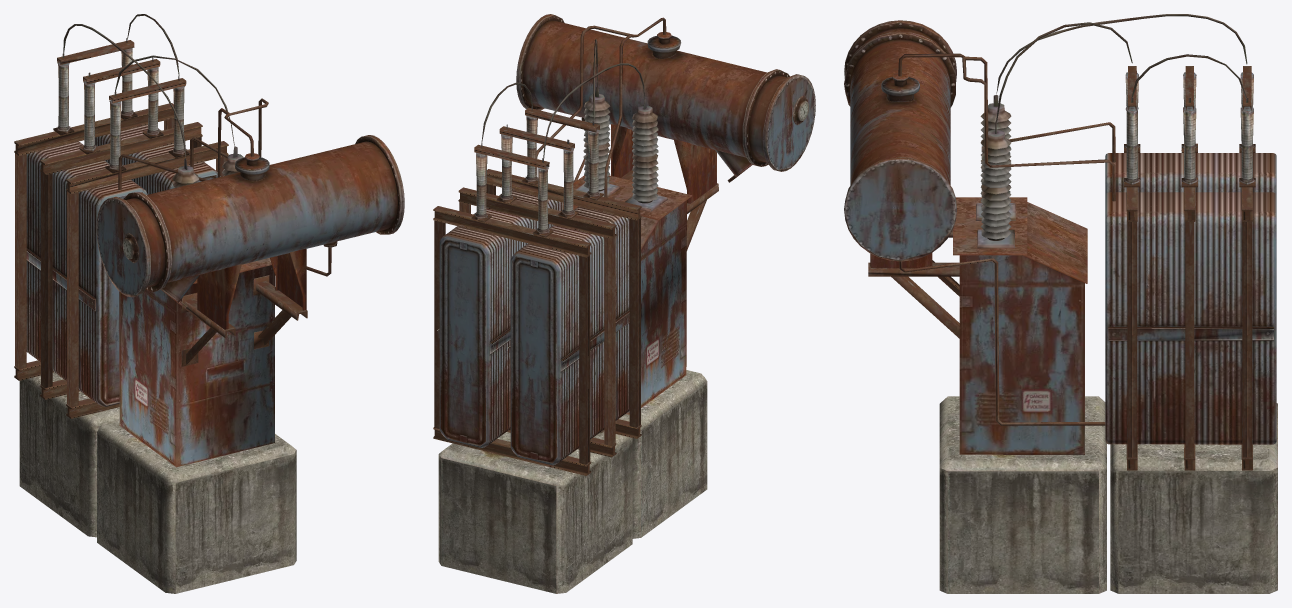
File: substation_b.glb
3 renders of one model, left to right at view 1: azimuth 30°, elevation 25°; view 2: azimuth 150°, elevation 25°; view 3: azimuth 270°, elevation 25°, orthographic. The views are drawn at different scales.
Parts seen in each view (by area): view 1: substation_b_LOD0; view 2: substation_b_LOD0; view 3: substation_b_LOD0.
Boxes of the visible parts, x1,y1,x2,y2 form: substation_b_LOD0: (14,14,404,593); substation_b_LOD0: (433,14,815,593); substation_b_LOD0: (844,14,1277,593).
Bounding box in the file's own units: 3.49 × 6.13 × 4.53.
Materials: 3 (3 with a texture image).
